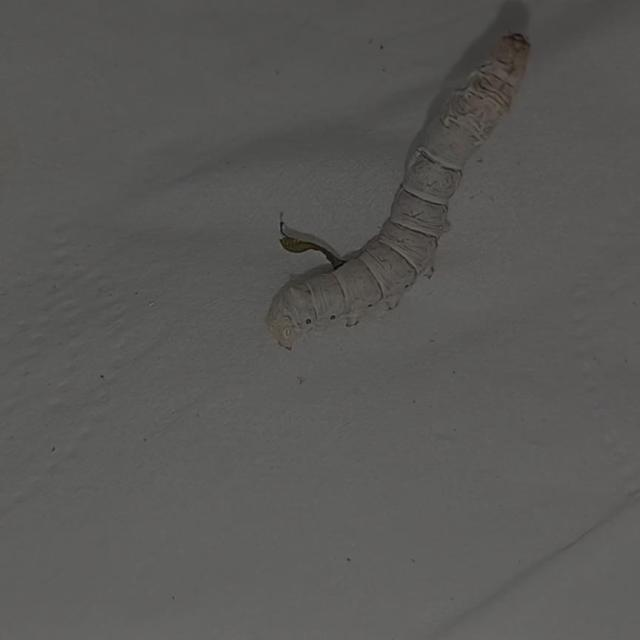Healthy: (251, 19, 559, 358)
